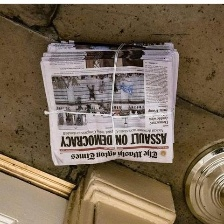news_paper: (37, 35, 179, 168)
